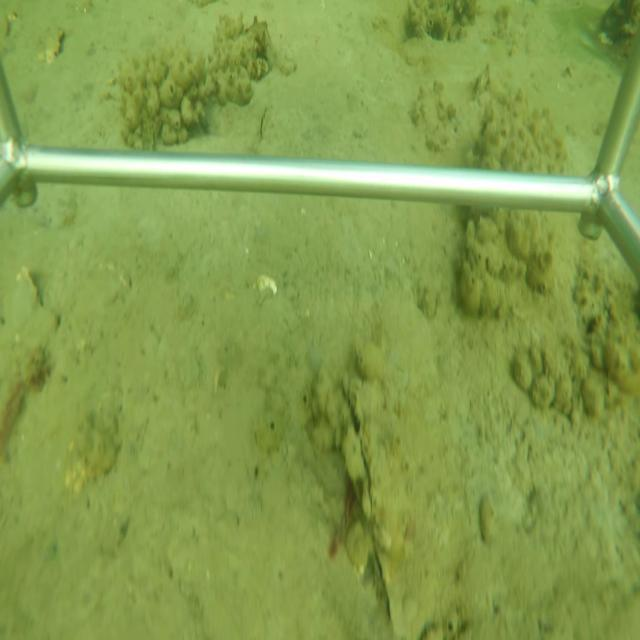Oyster-Closed: (340, 370, 418, 640)
